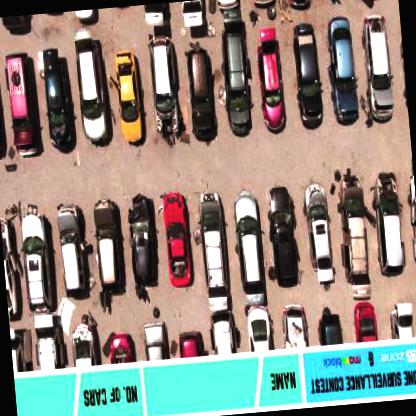car: (336, 174, 372, 298), (220, 14, 255, 138), (147, 29, 184, 146), (73, 29, 109, 148), (324, 17, 361, 125), (264, 186, 302, 289), (360, 13, 395, 124), (199, 191, 231, 311), (233, 188, 266, 304), (290, 23, 326, 128), (370, 172, 406, 276), (6, 55, 42, 156), (304, 179, 338, 285), (40, 50, 75, 152), (256, 28, 288, 133), (126, 194, 160, 288), (184, 47, 217, 143), (92, 197, 124, 294), (162, 189, 192, 289), (56, 204, 88, 296), (113, 48, 143, 145), (21, 225, 46, 312), (1, 216, 20, 318), (36, 328, 66, 370), (247, 306, 272, 352), (316, 306, 344, 347), (72, 323, 98, 367), (210, 312, 236, 355), (143, 321, 170, 361), (389, 300, 415, 340), (283, 304, 306, 348), (108, 331, 136, 365), (11, 330, 32, 374), (355, 302, 377, 340), (178, 332, 205, 357)
